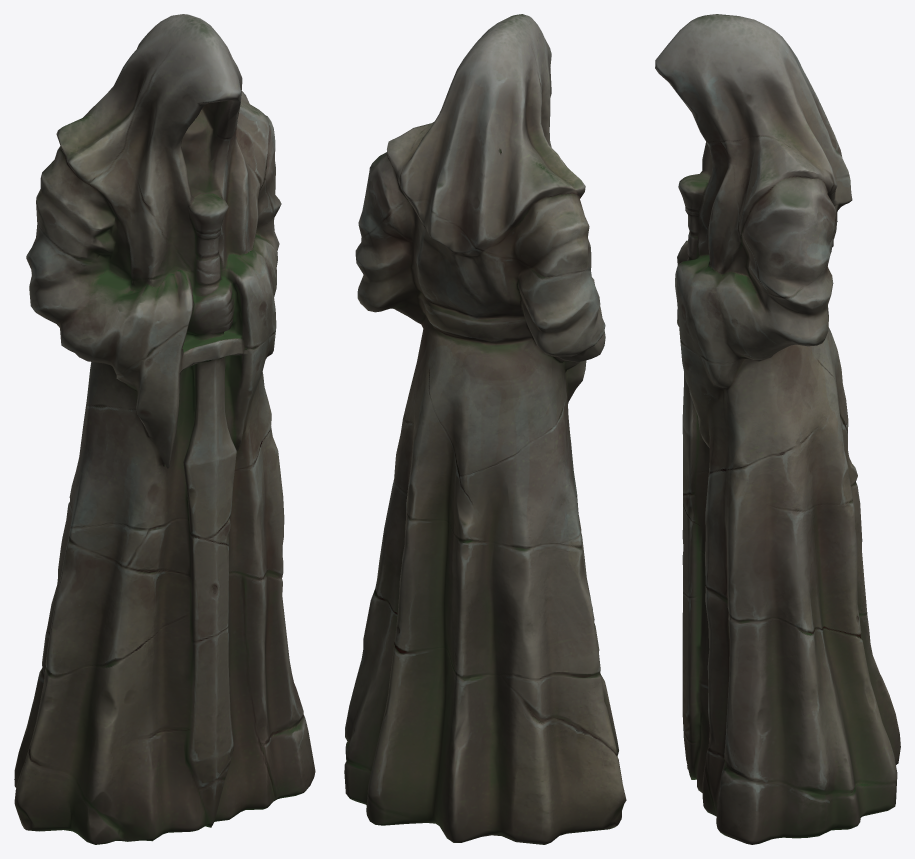
File: MSH_fwOF_Statue_02.fbx
3 renders of one model, left to right at view 1: azimuth 30°, elevation 25°; view 2: azimuth 150°, elevation 25°; view 3: azimuth 270°, elevation 25°, orthographic. The views are drawn at different scales.
Parts seen in each view (by area): view 1: MSH_fwOF_Statue_02_LOD0; view 2: MSH_fwOF_Statue_02_LOD0; view 3: MSH_fwOF_Statue_02_LOD0.
Part boxes in pixels (x1,y1,x2,y2): MSH_fwOF_Statue_02_LOD0: (14, 14, 315, 844); MSH_fwOF_Statue_02_LOD0: (344, 14, 626, 844); MSH_fwOF_Statue_02_LOD0: (655, 14, 900, 844).
Size of what is drawn, in the model's own units: 1.24 by 3.34 by 0.9688.
